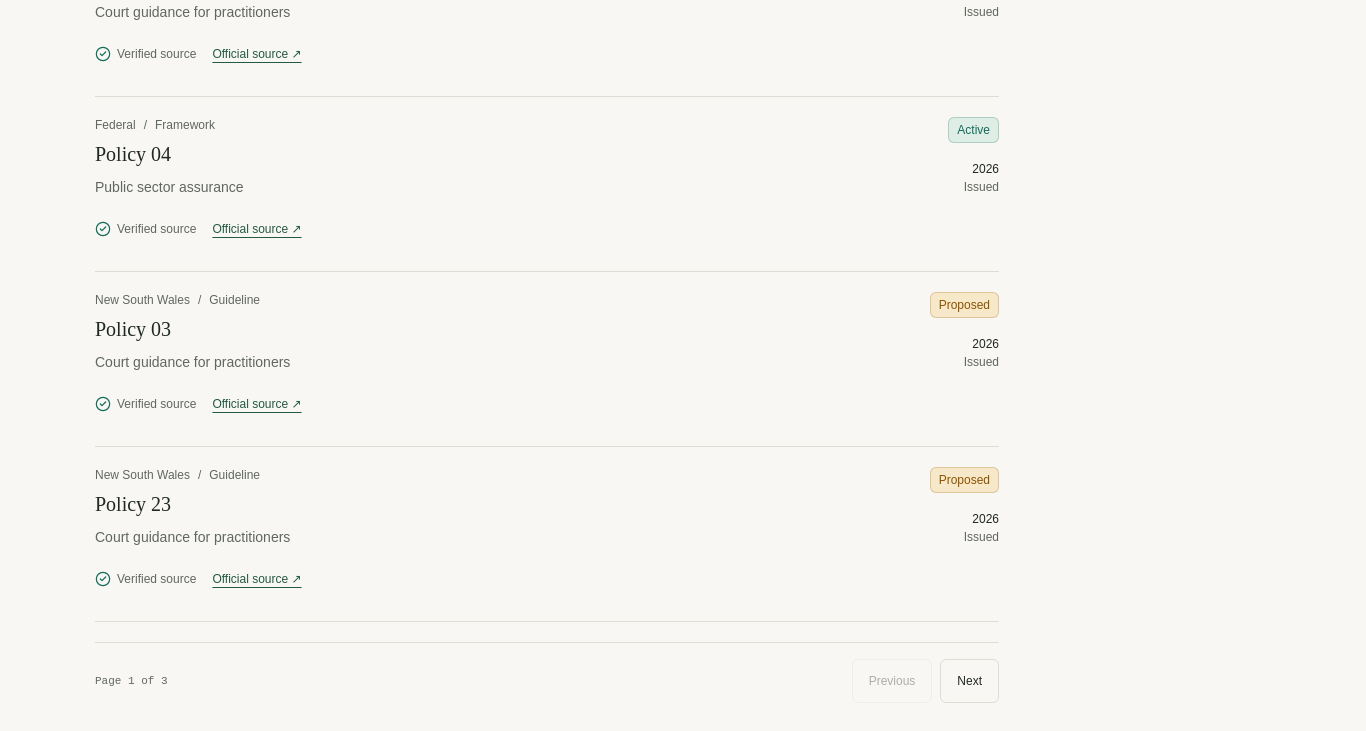
Editorial register › resets pagination when search changes
(page scrolled)
Click the button "Next".
click(970, 681)  # box [940, 659, 999, 703]
(page scrolled)
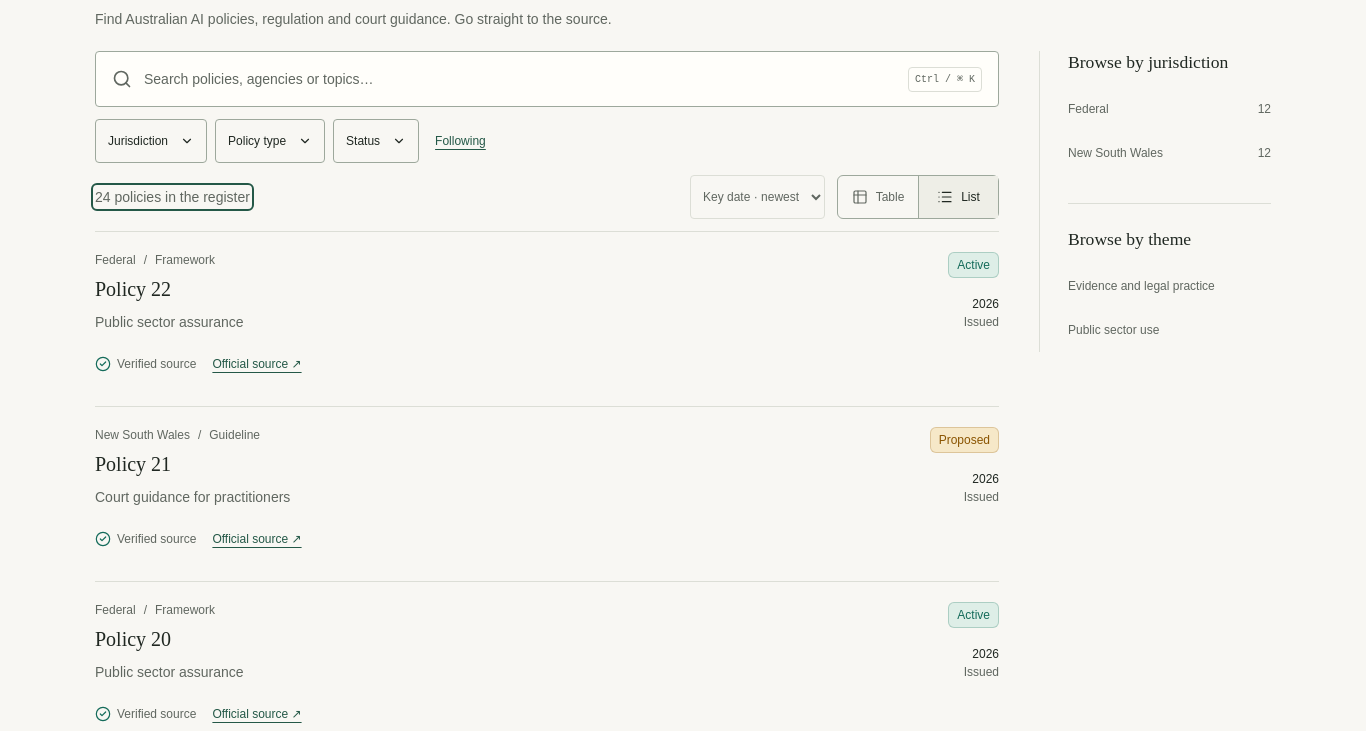
Type "Policy" into the search field.
click(520, 79); type("Policy")  # box [144, 52, 896, 106]
(page scrolled)
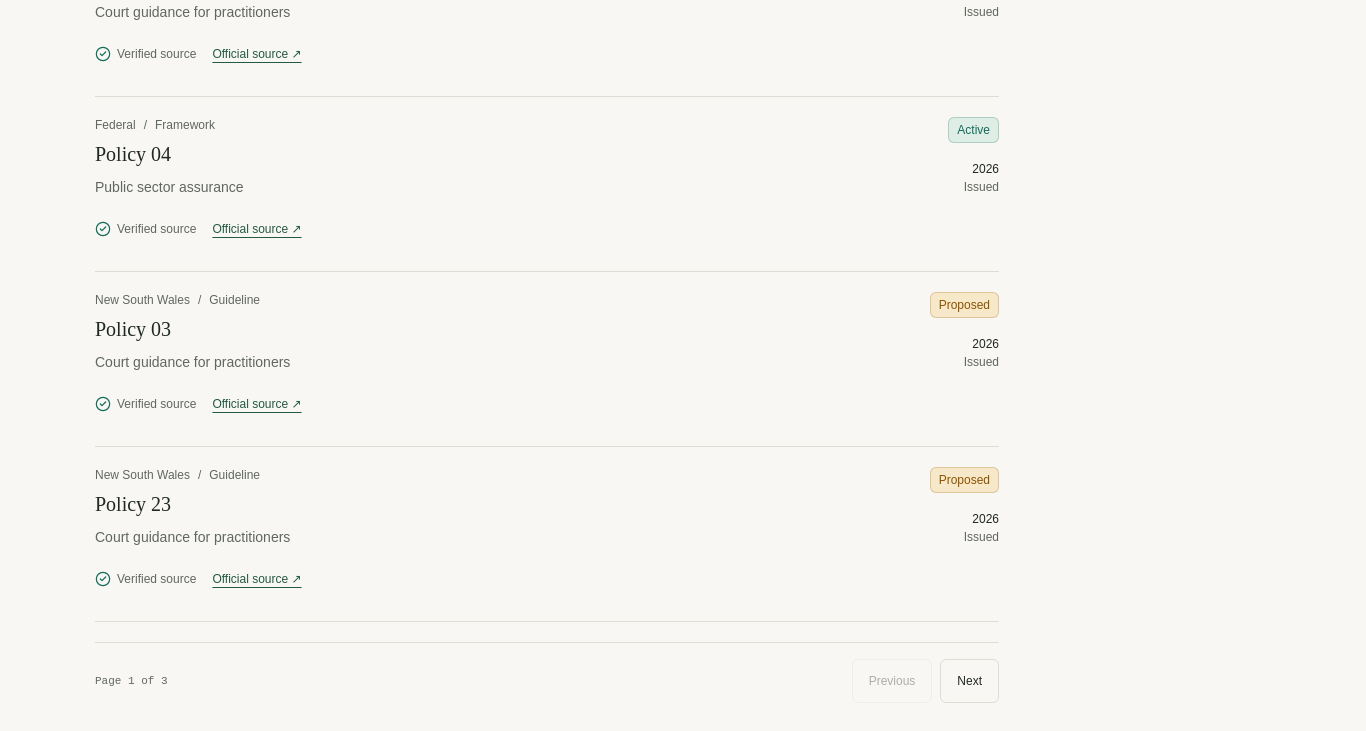
expect the text "Page 1 of 3" is shown: met, box [95, 673, 168, 689]
